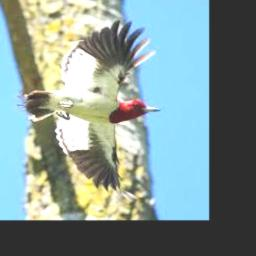Woodpecker: (18, 21, 161, 198)
